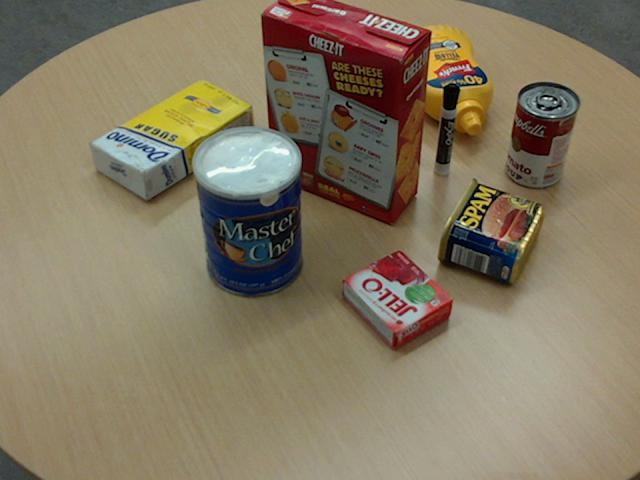cracker_box: (260, 0, 430, 223)
gelatin_box: (342, 249, 454, 348)
large_marker: (434, 83, 459, 174)
master_chef_can: (192, 126, 302, 297)
mug: (299, 32, 375, 124)
mustard_bottle: (396, 25, 492, 134)
potted_meat_can: (436, 177, 543, 282)
sugar_box: (89, 77, 253, 199)
tomato_soup_can: (505, 81, 579, 187)
tuna_fish_can: (325, 21, 388, 76)
